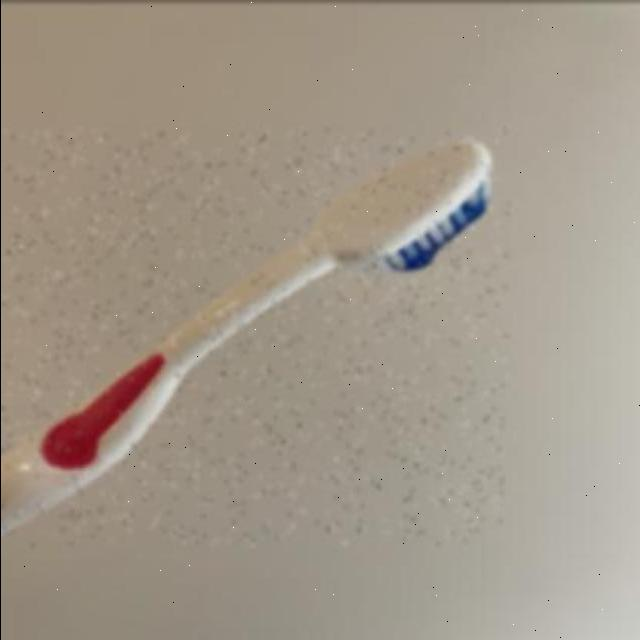toothbrush: (0, 128, 508, 544)
